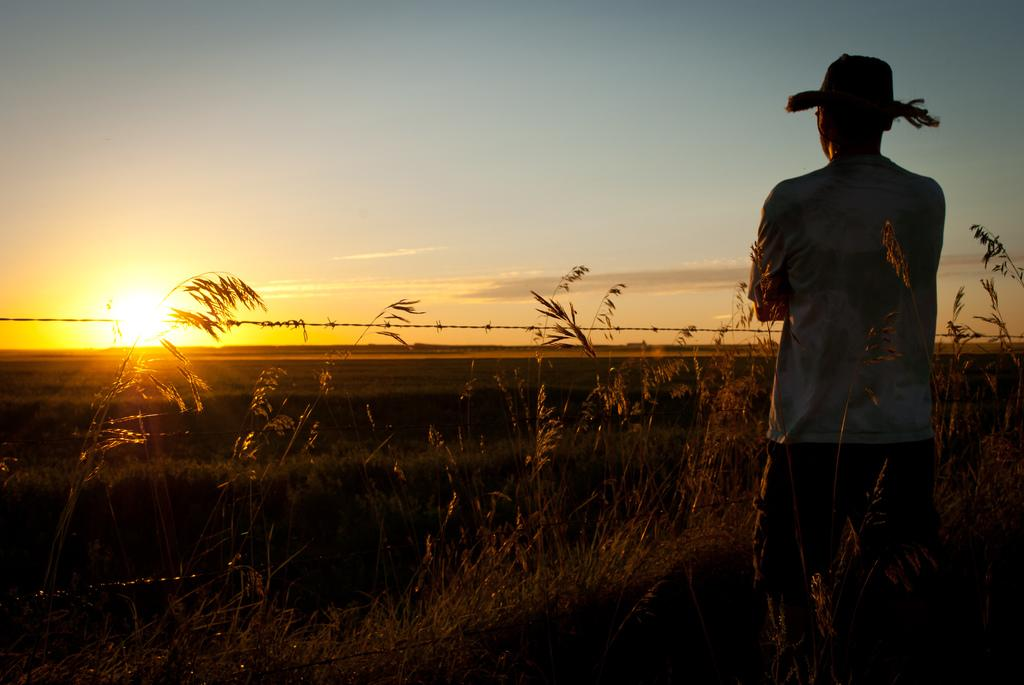Hat: (786, 50, 941, 124)
